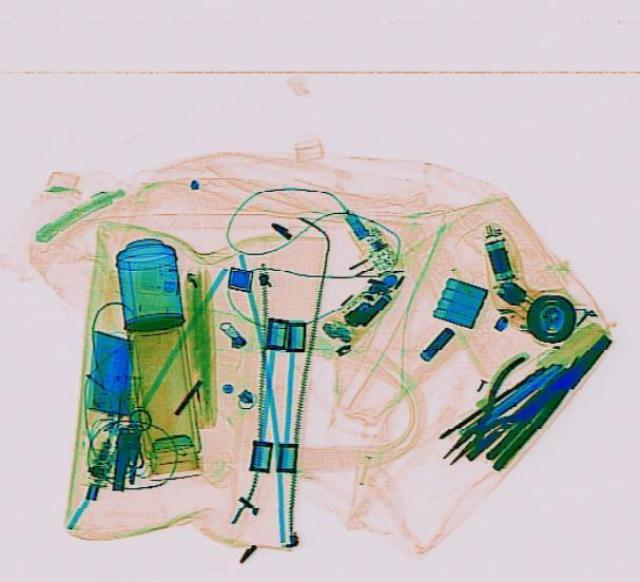Pliers: (422, 351, 562, 474)
